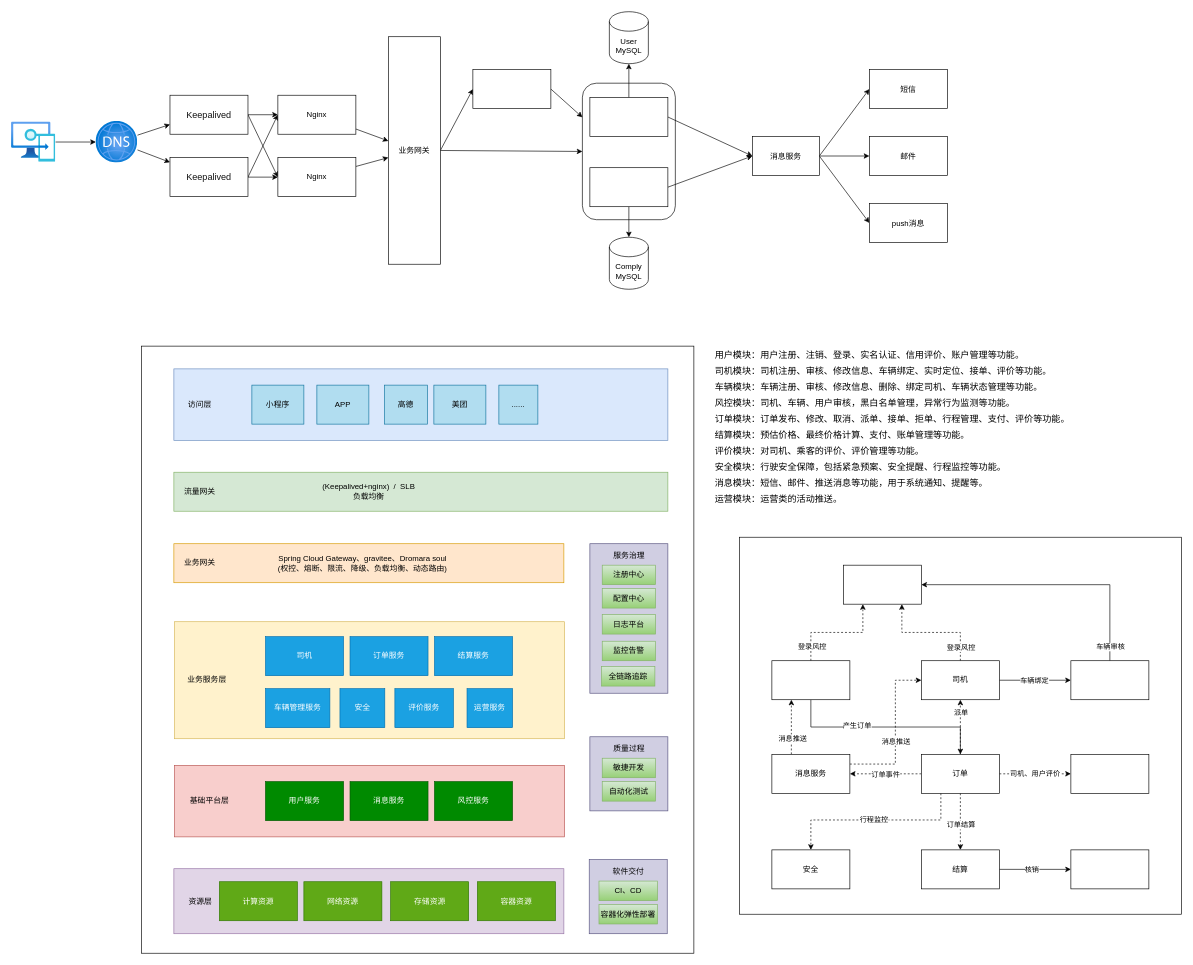
The diagram is 1193 pixels wide and 965 high, and some of its shapes have lost their labels. The centre of each missing label's shape, as x and y in pixels:
"公司服务 REST API" goes at (x=628, y=187).
"授权/鉴权" goes at (x=511, y=89).
"用户" goes at (x=810, y=680).
"用户服务 REST API" goes at (x=628, y=116).
"评价" goes at (x=1109, y=773).
"车辆" goes at (x=1109, y=680).
"运营活动" goes at (x=1109, y=869).
"风控" goes at (x=882, y=584).
